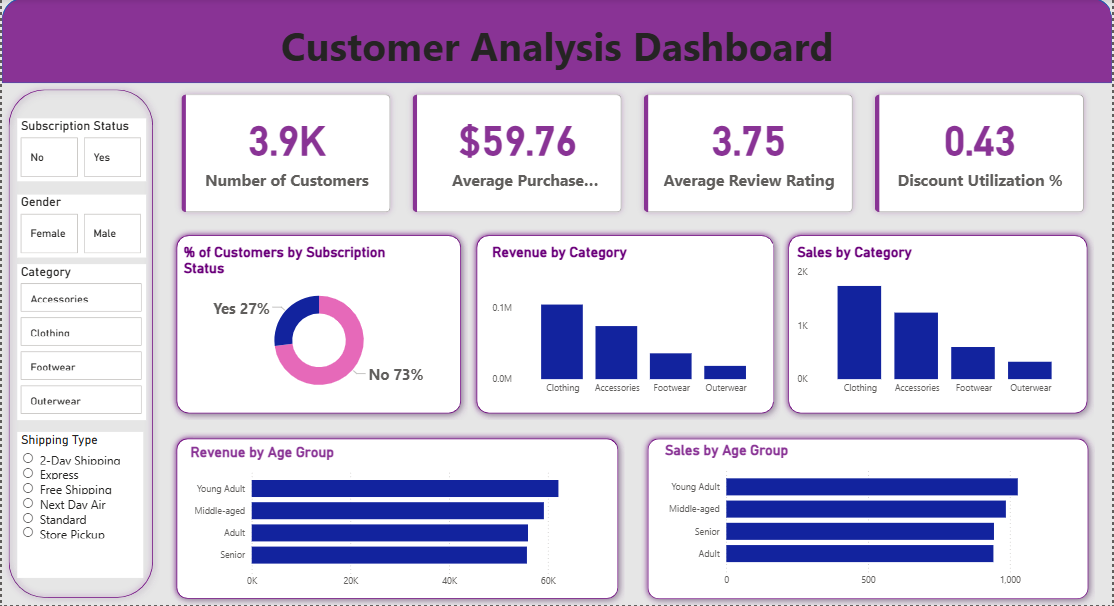

The page's visual inventory and layout, read from the dashboard file:
{"tool":"powerbi","page":{"name":"Page 1","canvas":[1500,820],"ordinal":0},"visuals":[{"type":"cardVisual","fields":{"Data":["public customer.Number of Customers","public customer.Average Purchase Amount","public customer.Average Review Rating","public customer.Discount Utilization %"]},"box":[226.1,115.2,1250,191.3],"z":2000},{"type":"shape","box":[226.1,584.8,614.3,234.2],"z":2500,"group":"g1"},{"type":"shape","box":[0,0,1500,115.2],"z":3000},{"type":"textbox","title":"customer ","box":[0,23.9,1500,91.3],"z":4000},{"type":"shape","box":[226.1,310.9,402.2,258.7],"z":5000},{"type":"donutChart","title":"% of Customers by Subscription Status","fields":{"Category":["public customer.subscription_status"],"Y":["CountNonNull(public customer.customer_id)"]},"box":[241.3,332.6,376.1,213],"z":6000},{"type":"shape","box":[1052.2,310.9,421.7,258.7],"z":7000},{"type":"shape","box":[632.6,310.9,419.6,258.7],"z":8000},{"type":"clusteredColumnChart","title":"Revenue by Category","fields":{"Y":["Sum(public customer.purchase_amount)"],"Category":["public customer.category"]},"box":[656.5,332.6,384.8,213],"z":9000},{"type":"clusteredColumnChart","title":"Sales by Category","fields":{"Y":["CountNonNull(public customer.customer_id)"],"Category":["public customer.category"]},"box":[1069.6,332.6,387,213],"z":10000},{"type":"shape","box":[0,115.3,212.9,704.5],"z":11000},{"type":"advancedSlicerVisual","fields":{"Values":["public customer.subscription_status"]},"box":[19.5,161.5,173.9,85.2],"z":12000},{"type":"advancedSlicerVisual","fields":{"Values":["public customer.gender"]},"box":[19.5,264.4,173.9,85.2],"z":13000},{"type":"advancedSlicerVisual","fields":{"Values":["public customer.category"]},"box":[19.6,358.7,173.9,210.9],"z":14000},{"type":"listSlicer","fields":{"Values":["public customer.shipping_type"]},"box":[19.6,584.8,169.6,195.7],"z":15000},{"type":"shape","box":[863,584.8,613,234.8],"z":16000},{"type":"clusteredBarChart","title":"Sales by Age Group","fields":{"Y":["CountNonNull(public customer.customer_id)"],"Category":["public customer.age_group"]},"box":[889.1,600,567.4,204.3],"z":17000},{"type":"clusteredBarChart","title":"Revenue by Age Group","fields":{"Y":["Sum(public customer.purchase_amount)"],"Category":["public customer.age_group"]},"box":[248.5,600.8,569.5,204.1],"z":17500,"group":"g1"},{"type":"group","id":"g1","title":"Group 1","box":[226.1,584.8,615.2,234.8],"z":17501}]}

Visuals, with their boxes in screenshot pixels (x1, y1, x2, y2), scaled from the page's 1500x820 canvas onto the 1114x606 screenshot:
cardVisual - public customer.Number of Customers x public customer.Average Purchase Amount: [left=168, top=85, right=1096, bottom=227]
shape: [left=168, top=432, right=624, bottom=605]
shape: [left=0, top=0, right=1113, bottom=85]
"customer " textbox: [left=0, top=18, right=1113, bottom=85]
shape: [left=168, top=230, right=467, bottom=421]
"% of Customers by Subscription Status" donutChart: [left=179, top=246, right=459, bottom=403]
shape: [left=781, top=230, right=1095, bottom=421]
shape: [left=470, top=230, right=781, bottom=421]
"Revenue by Category" clusteredColumnChart: [left=488, top=246, right=773, bottom=403]
"Sales by Category" clusteredColumnChart: [left=794, top=246, right=1082, bottom=403]
shape: [left=0, top=85, right=158, bottom=605]
advancedSlicerVisual - public customer.subscription_status: [left=14, top=119, right=144, bottom=182]
advancedSlicerVisual - public customer.gender: [left=14, top=195, right=144, bottom=258]
advancedSlicerVisual - public customer.category: [left=15, top=265, right=144, bottom=421]
listSlicer - public customer.shipping_type: [left=15, top=432, right=141, bottom=577]
shape: [left=641, top=432, right=1096, bottom=605]
"Sales by Age Group" clusteredBarChart: [left=660, top=443, right=1082, bottom=594]
"Revenue by Age Group" clusteredBarChart: [left=185, top=444, right=608, bottom=595]
"Group 1" group: [left=168, top=432, right=625, bottom=605]
